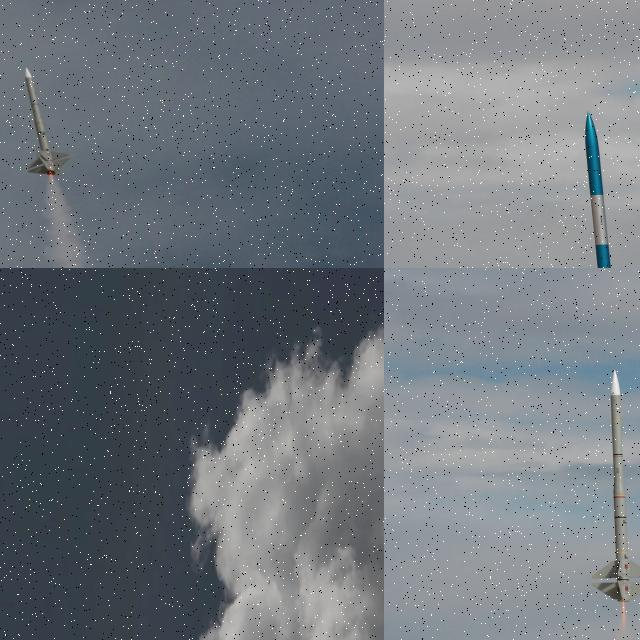Rocket: (591, 367, 640, 603), (583, 111, 631, 268), (24, 67, 70, 174), (268, 580, 270, 586)
